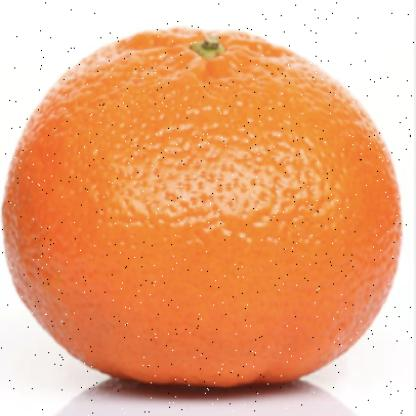fresh: (2, 30, 400, 390)
